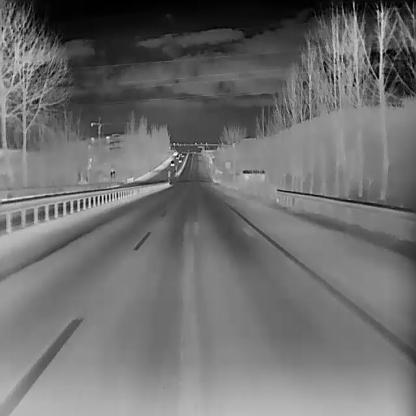car: (169, 158, 174, 165)
